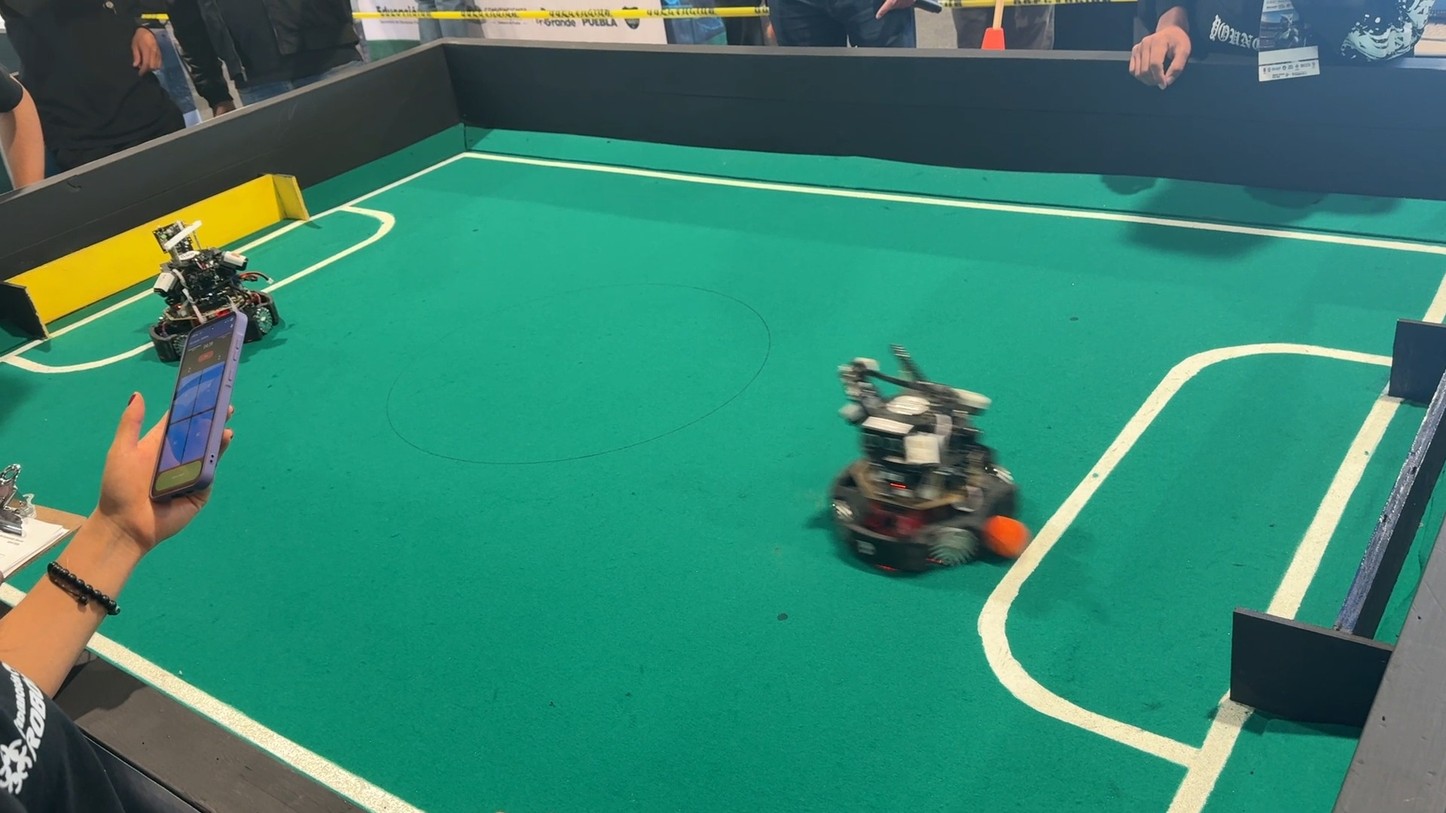Robot: (809, 334, 1038, 591), (124, 209, 301, 375)
pelota: (977, 514, 1039, 567)
